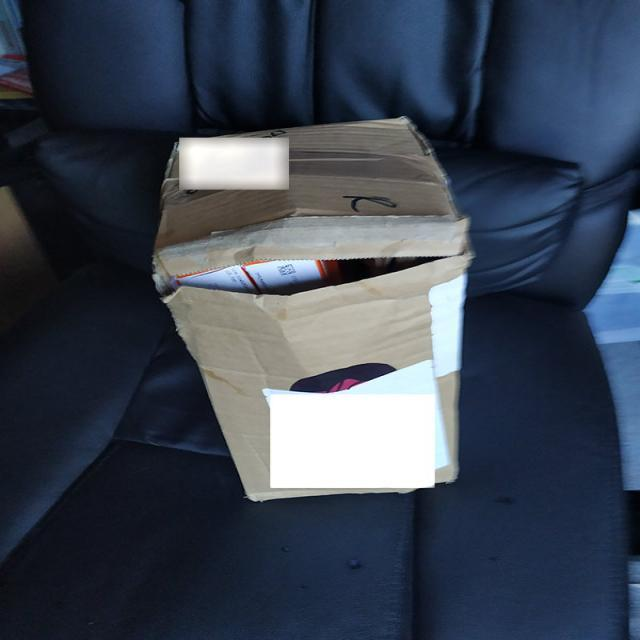damaged: (167, 252, 462, 305)
